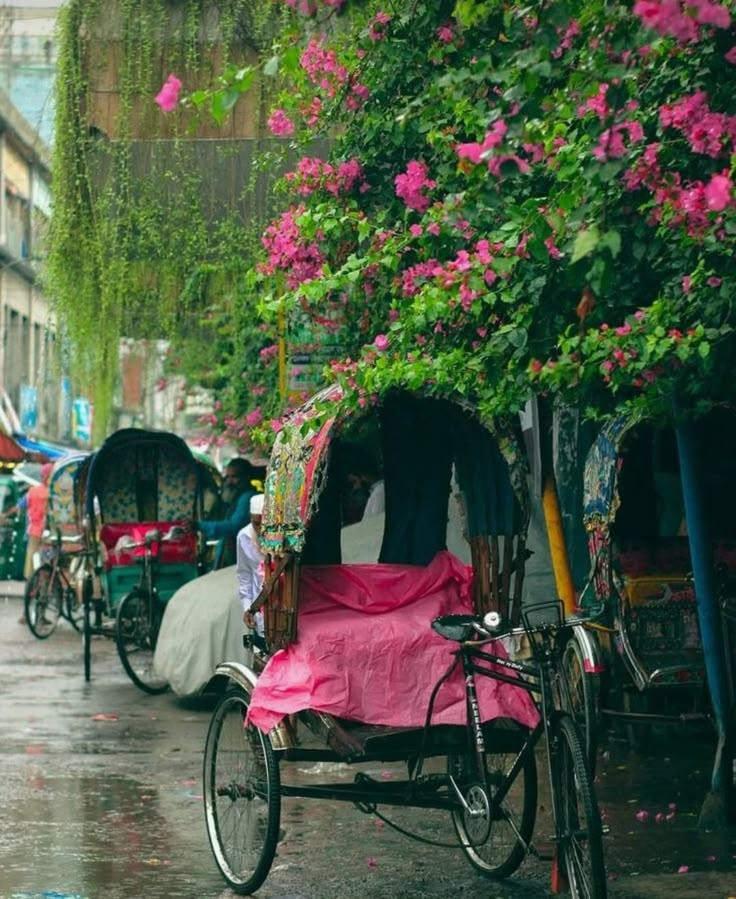Rickshaw: (202, 390, 606, 898), (580, 413, 708, 747), (85, 428, 202, 691), (24, 451, 88, 638)
